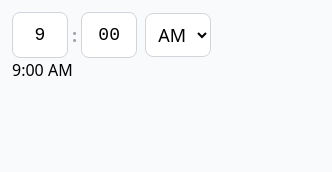
Test: TimeField — two-digit entry (Bug 1) › typing 59 yields 59
Click the field named "Test Minute" at {"x": 109, "y": 35}, box [81, 12, 137, 58]
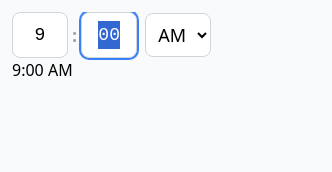
Type keys "59"
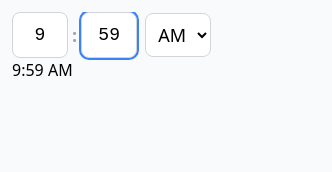
Expected: the field named "Test Minute" holds "59", [81, 12, 137, 58]
